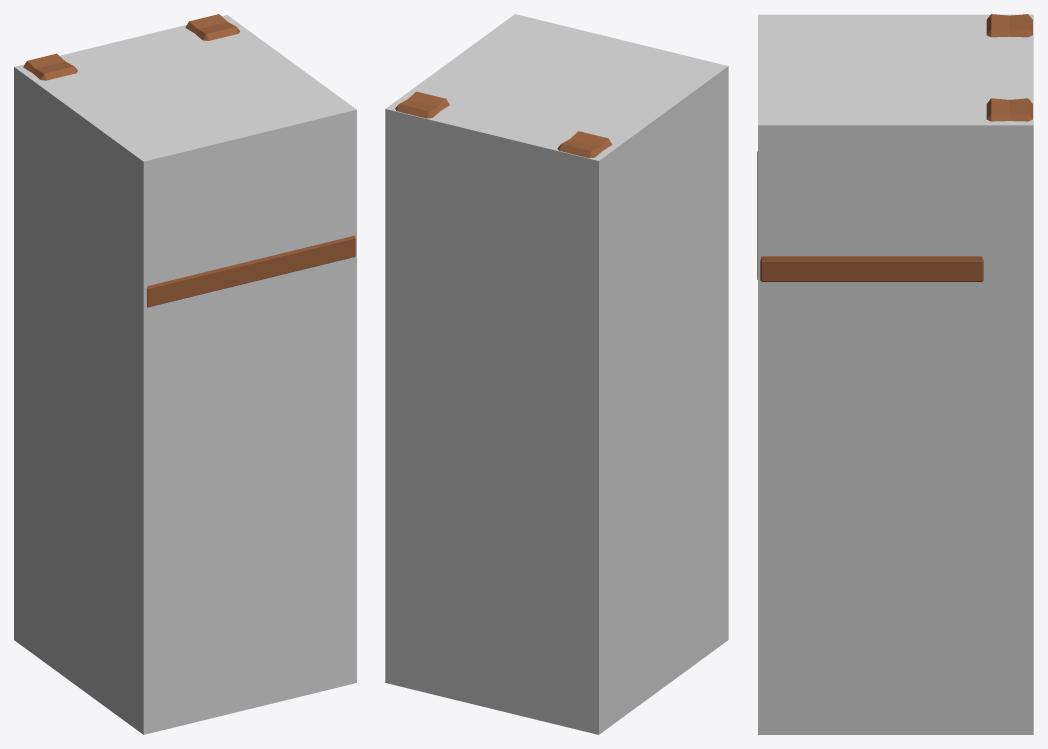
The model's file is chair-B-01.glb.
The picture shows the model from 3 angles, left to right: view 1: azimuth 30°, elevation 25°; view 2: azimuth 150°, elevation 25°; view 3: azimuth 270°, elevation 25°; orthographic projection. The views are drawn at different scales.
Visible parts, largest first — view 1: Chair B_col, Chair B; view 2: Chair B_col, Chair B; view 3: Chair B_col, Chair B.
Part boxes in pixels (x1,y1,x2,y2): Chair B_col: (14,15,356,734); Chair B: (23,14,355,307); Chair B_col: (385,14,728,734); Chair B: (395,91,612,158); Chair B_col: (758,14,1033,734); Chair B: (757,14,1032,281).
Size of the model in its own units: 2.07 by 5.34 by 2.18.
